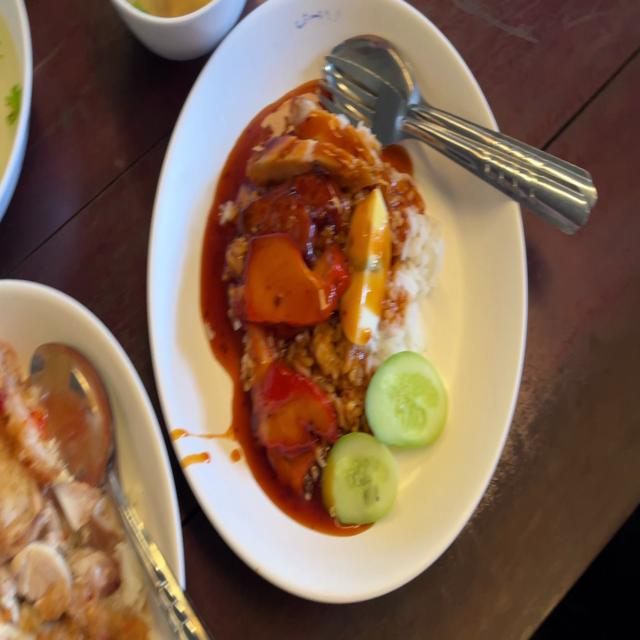chicken_rice: (20, 485, 124, 640)
red_pork_and_crispy_pork: (342, 193, 392, 341)
stir_fried_basil: (239, 170, 339, 247)
